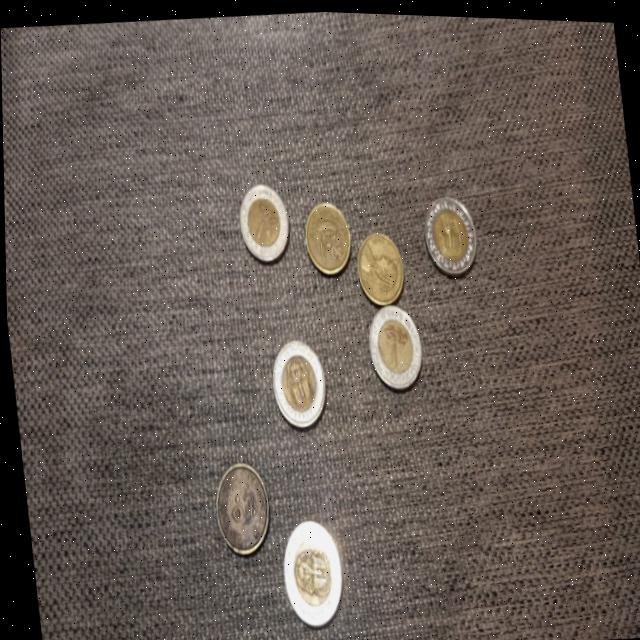Half Pound: (202, 441, 273, 569), (349, 217, 413, 310), (295, 188, 355, 280)
One Pound: (270, 506, 348, 632), (260, 324, 332, 437), (228, 163, 295, 278), (360, 293, 427, 400), (413, 183, 482, 280)
